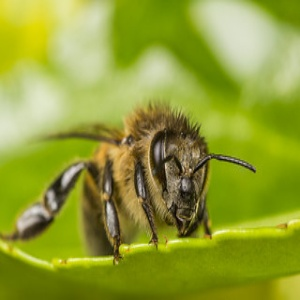bee: (5, 95, 257, 267)
